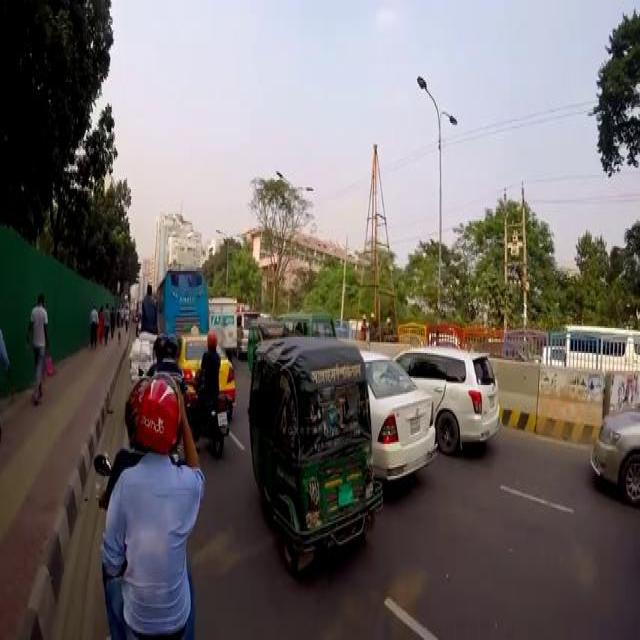bus: (153, 267, 207, 328)
car: (391, 342, 500, 453), (359, 344, 434, 478), (591, 406, 638, 503), (177, 328, 236, 401), (236, 308, 257, 352)
motorcycle: (243, 333, 380, 567), (190, 366, 227, 454), (245, 317, 284, 364)
truck: (563, 321, 639, 369), (207, 292, 236, 350), (285, 308, 335, 337)
